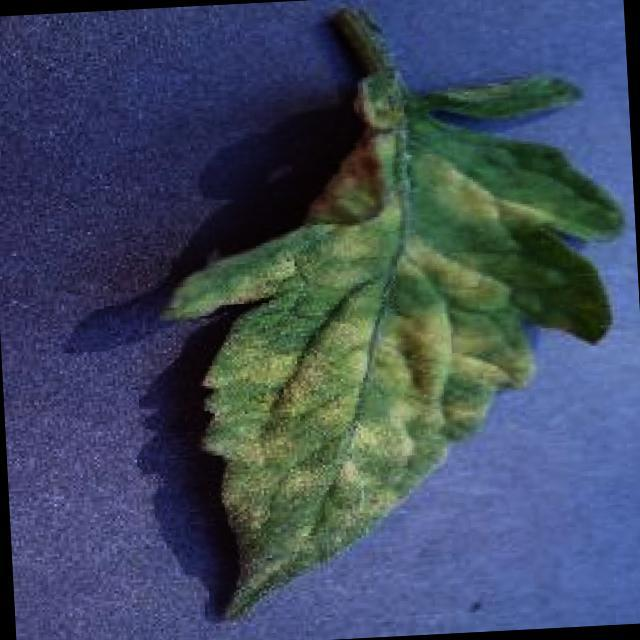Tomato healthy leaf: (161, 69, 640, 629)
